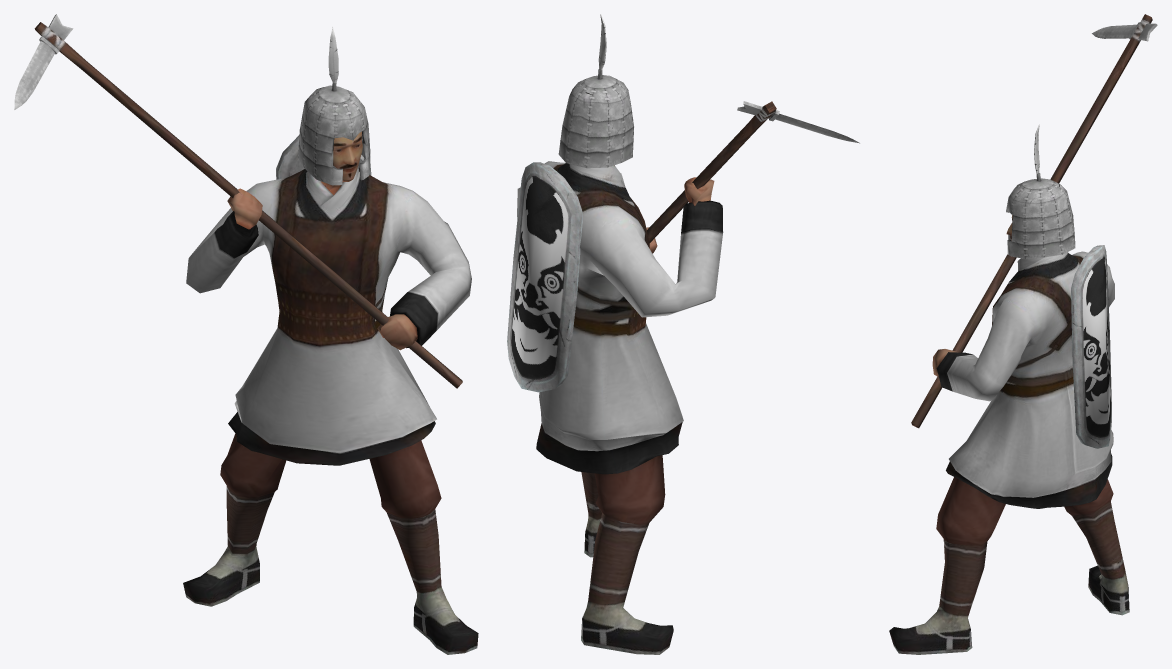
File: 143-gehalberdier.glb
The picture shows the model from 3 angles, left to right: view 1: azimuth 30°, elevation 25°; view 2: azimuth 150°, elevation 25°; view 3: azimuth 270°, elevation 25°; orthographic projection. The views are drawn at different scales.
Bounding box in the file's own units: 1.67 × 2.38 × 1.12.
Materials: 4 (4 with a texture image).
